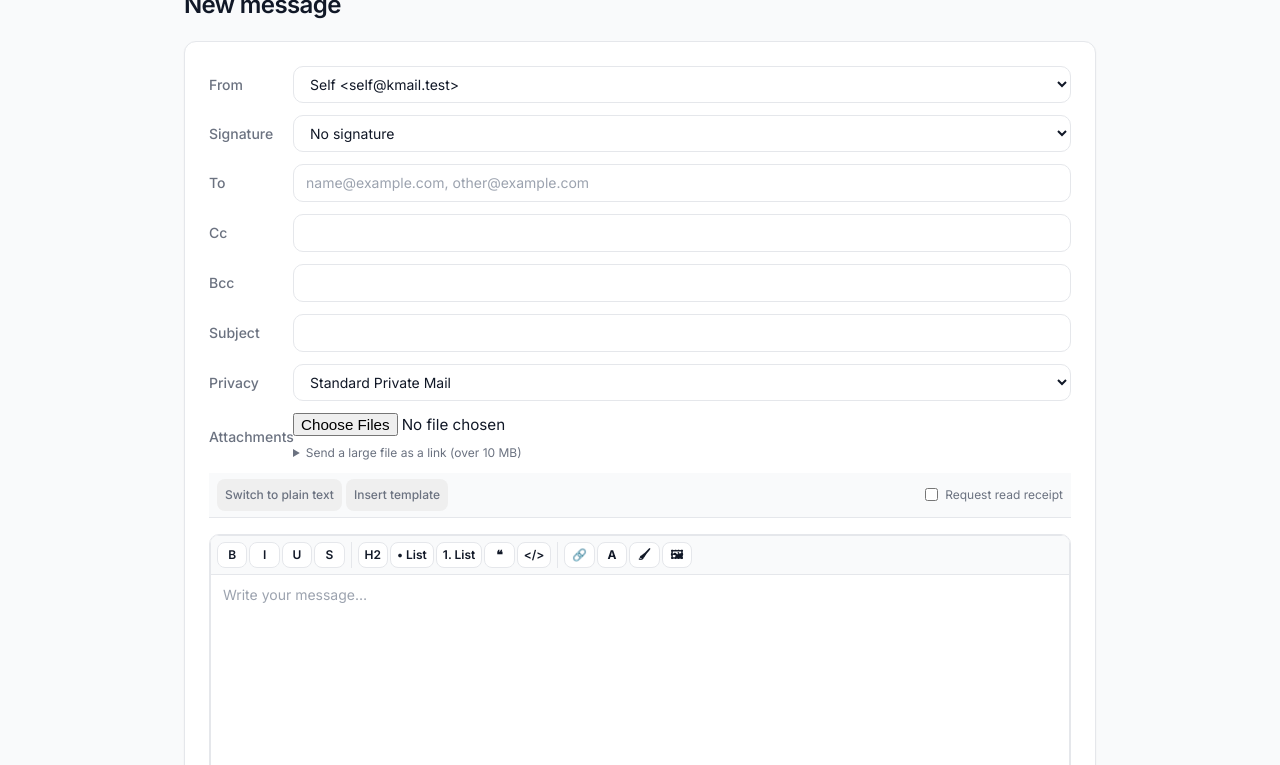
Scenario: <Compose /> › cancels the pending send when the Undo button is clicked
Type "alice@example.com" into the dropdown labelled "To" at [682, 183], box [293,164,1071,202]
(page scrolled)
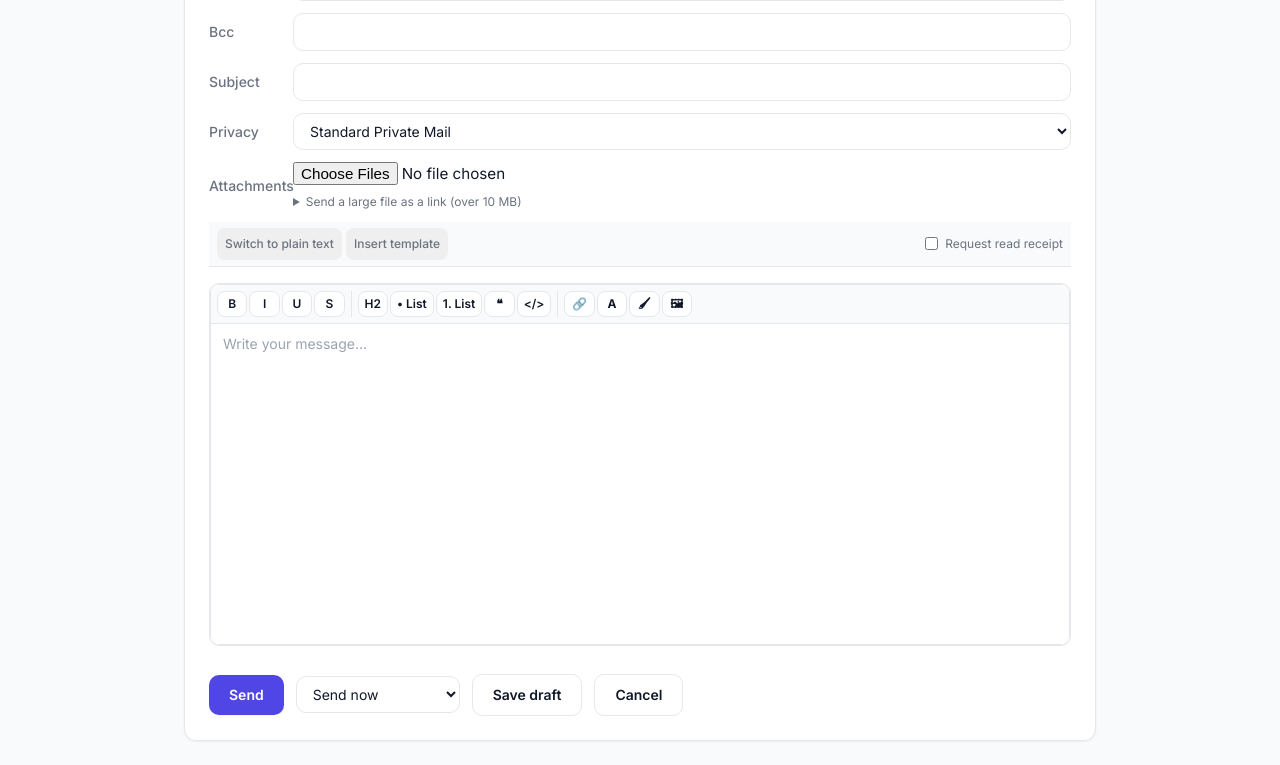
Click the button "Send" at [246, 695], box [209,675,284,715]
(page scrolled)
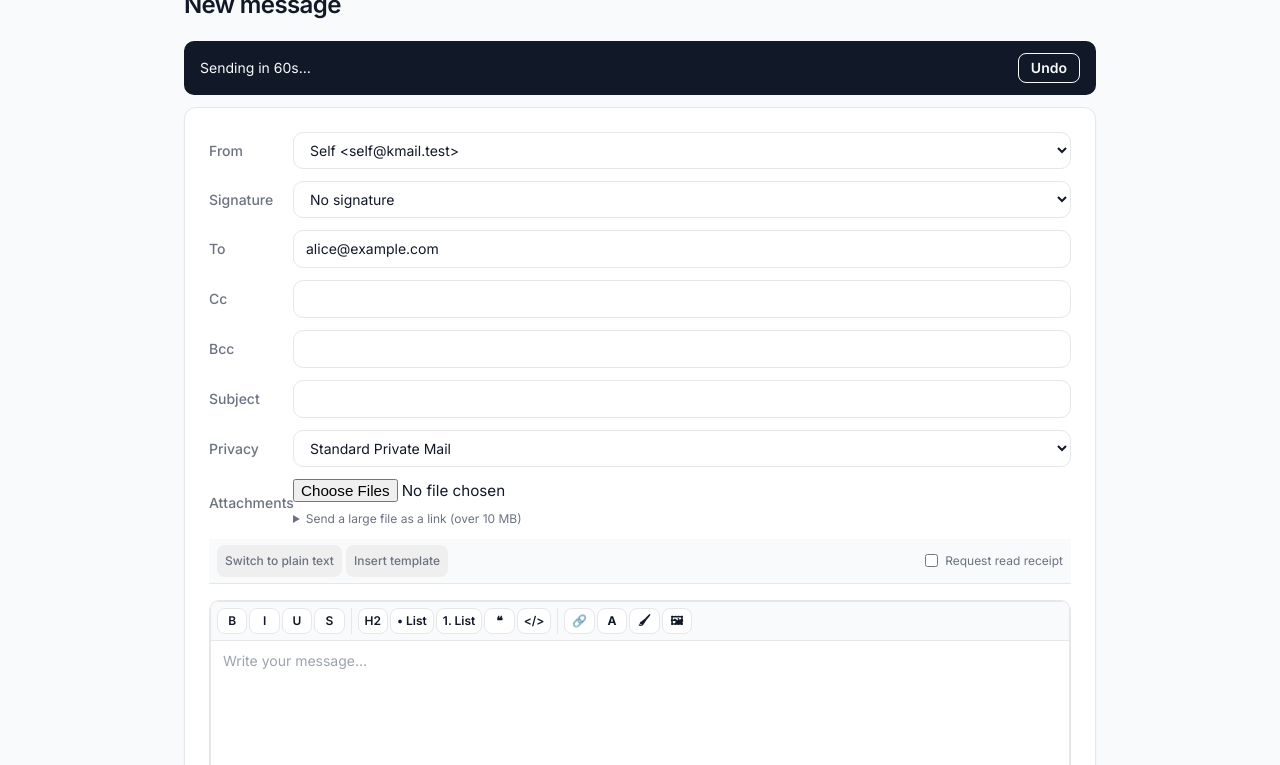
Click the button with test id "undo-send-cancel" at [1049, 68], box [1018,53,1080,83]
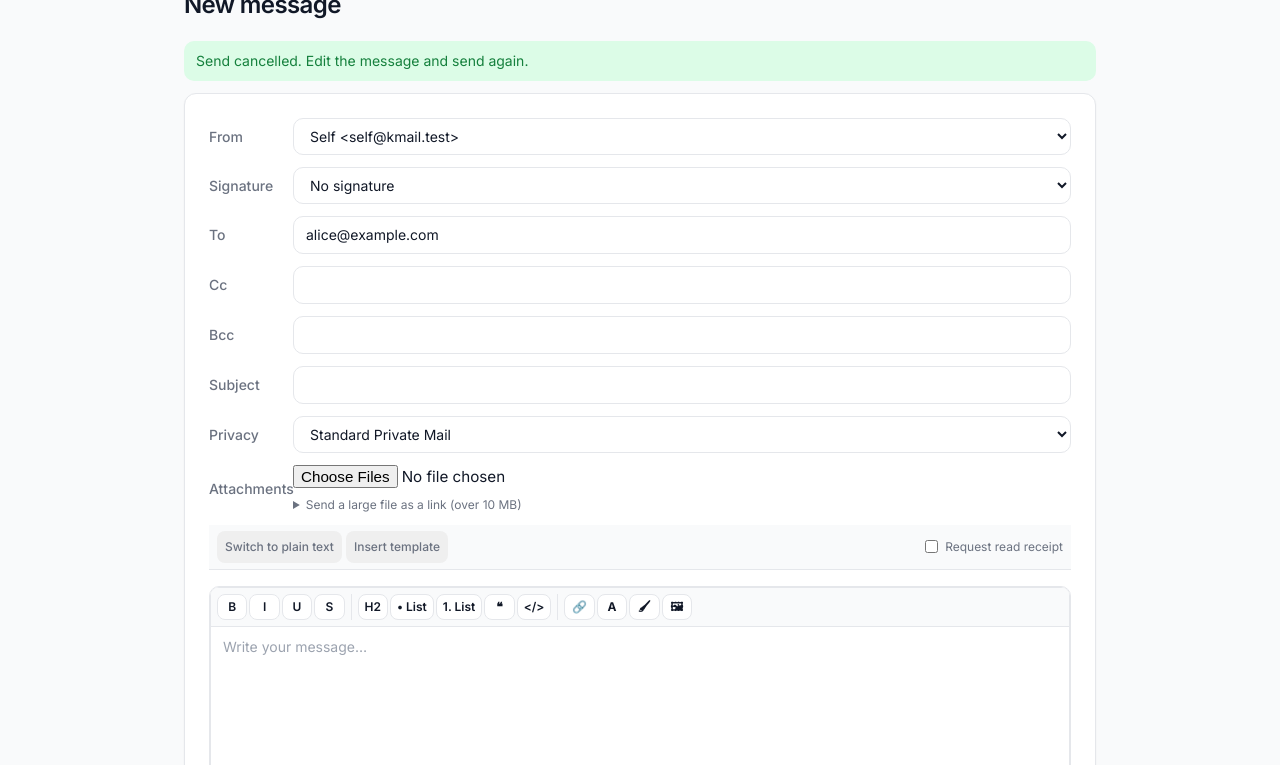
Expected: the text "Send cancelled. Edit the message and send again." is shown, [184,41,1096,81]
